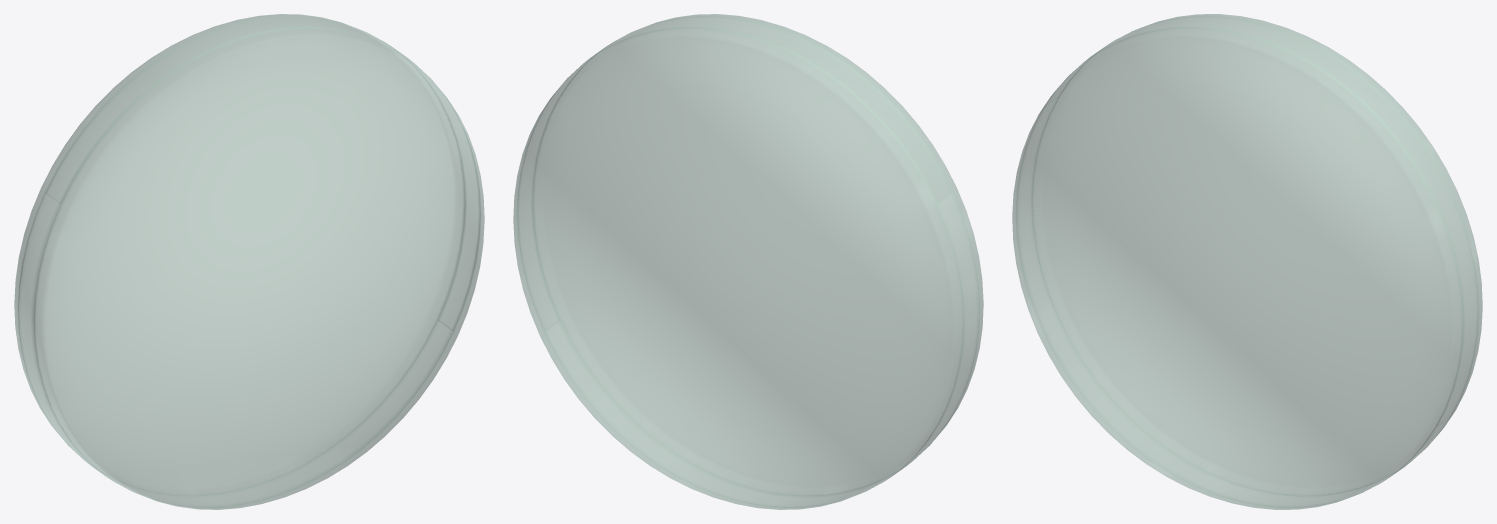
File: A.Item.05.glb
3 renders of one model, left to right at view 1: azimuth 30°, elevation 25°; view 2: azimuth 150°, elevation 25°; view 3: azimuth 330°, elevation 25°, orthographic.
Visible parts, largest first — view 1: A.Item.05; view 2: A.Item.05; view 3: A.Item.05.
Boxes of the visible parts, <box> form: A.Item.05: <box>14,14,484,509</box>; A.Item.05: <box>513,14,983,509</box>; A.Item.05: <box>1012,14,1482,509</box>.
Size of the model in its own units: 0.2533 by 0.2533 by 0.0306.
1 material, 1 textured.
